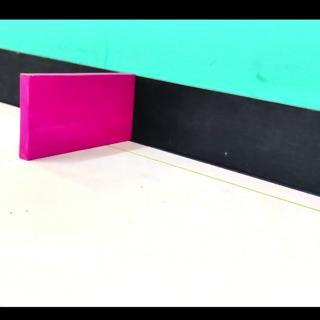xparking: (27, 77, 128, 161)
